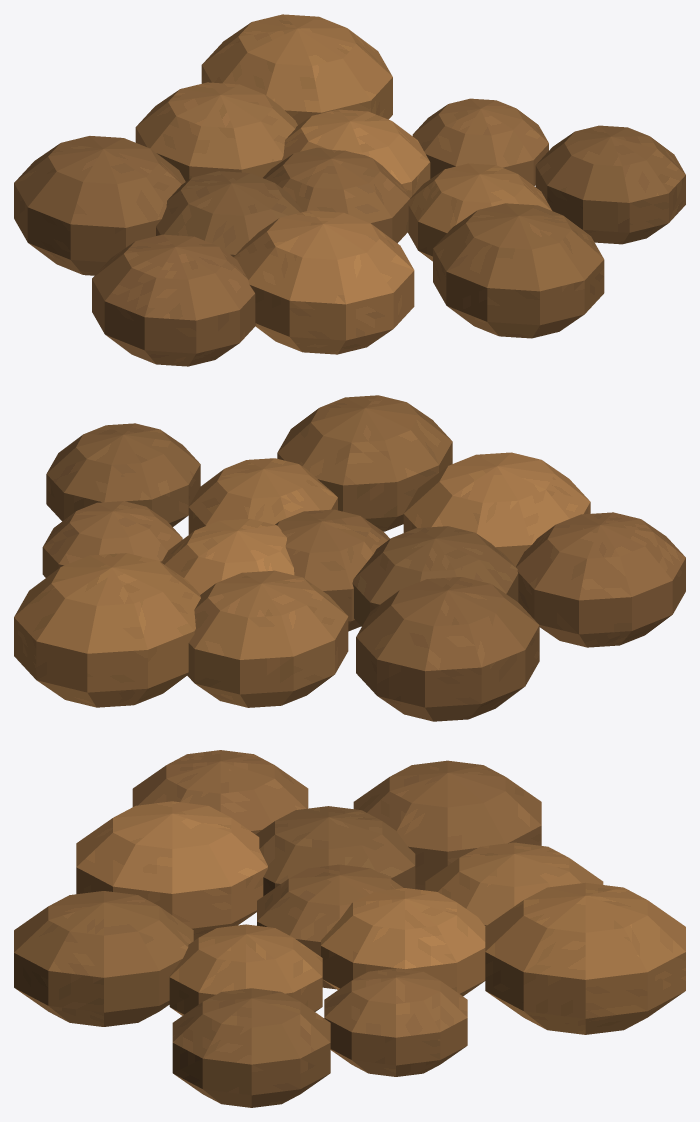
The model's file is oats.glb.
3 views of the same model, one above another, from view 1: azimuth 30°, elevation 25°; view 2: azimuth 150°, elevation 25°; view 3: azimuth 270°, elevation 25° (orthographic). The views are drawn at different scales.
Parts seen in each view (by area): view 1: block_grain 5, block_grain 8, block_grain 10, block_grain 7, block_grain 9, block_grain 11, block_grain 4, block_grain 0, block_grain 6, block_grain 2, block_grain 3, block_grain 1; view 2: block_grain 9, block_grain 7, block_grain 10, block_grain 4, block_grain 8, block_grain 5, block_grain 11, block_grain 2, block_grain 3, block_grain 0, block_grain 6, block_grain 1; view 3: block_grain 9, block_grain 8, block_grain 5, block_grain 11, block_grain 7, block_grain 1, block_grain 6, block_grain 3, block_grain 2, block_grain 10, block_grain 4, block_grain 0.
Boxes of the visible parts, x1,y1,x2,y2 form: block_grain 5: [233, 210, 414, 354]; block_grain 8: [433, 203, 604, 338]; block_grain 10: [92, 234, 256, 366]; block_grain 7: [14, 136, 185, 275]; block_grain 9: [201, 14, 392, 124]; block_grain 11: [535, 125, 685, 244]; block_grain 4: [135, 82, 297, 181]; block_grain 0: [263, 147, 410, 243]; block_grain 6: [412, 98, 548, 185]; block_grain 2: [156, 171, 303, 256]; block_grain 3: [408, 163, 552, 261]; block_grain 1: [279, 109, 430, 197]; block_grain 9: [14, 553, 200, 707]; block_grain 7: [356, 577, 539, 721]; block_grain 10: [516, 512, 685, 647]; block_grain 4: [187, 570, 348, 707]; block_grain 8: [277, 395, 452, 531]; block_grain 5: [403, 452, 590, 565]; block_grain 11: [46, 423, 200, 526]; block_grain 2: [352, 526, 518, 626]; block_grain 3: [188, 458, 337, 534]; block_grain 0: [275, 509, 389, 631]; block_grain 6: [42, 501, 182, 577]; block_grain 1: [161, 518, 294, 594]; block_grain 9: [485, 882, 685, 1034]; block_grain 8: [14, 891, 193, 1026]; block_grain 5: [76, 801, 267, 940]; block_grain 11: [172, 988, 330, 1107]; block_grain 7: [353, 760, 541, 890]; block_grain 1: [321, 888, 485, 996]; block_grain 6: [324, 968, 467, 1076]; block_grain 3: [169, 924, 322, 1015]; block_grain 2: [255, 806, 415, 895]; block_grain 10: [132, 750, 308, 834]; block_grain 4: [425, 842, 603, 926]; block_grain 0: [257, 864, 403, 989].
Bounding box in the file's own units: 0.114 × 0.0229 × 0.1104.
Materials: 1 (1 with a texture image).
